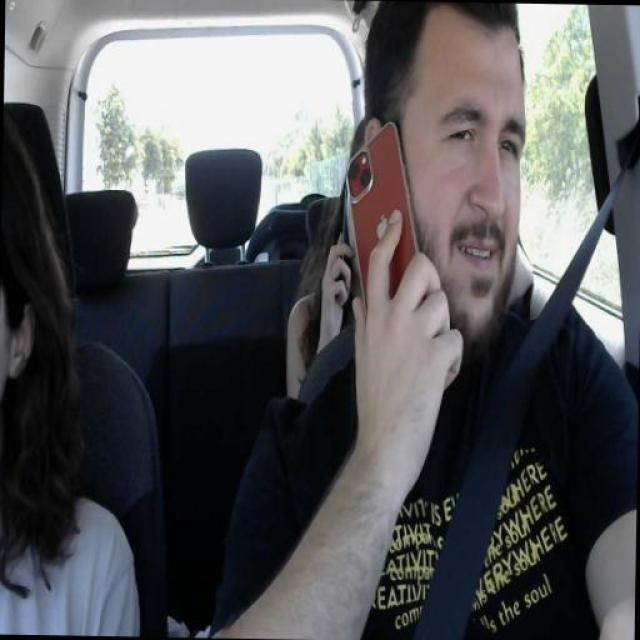phone: (342, 120, 424, 331)
